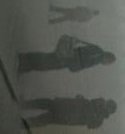person: (17, 34, 116, 77), (17, 92, 117, 130), (48, 4, 100, 25)
